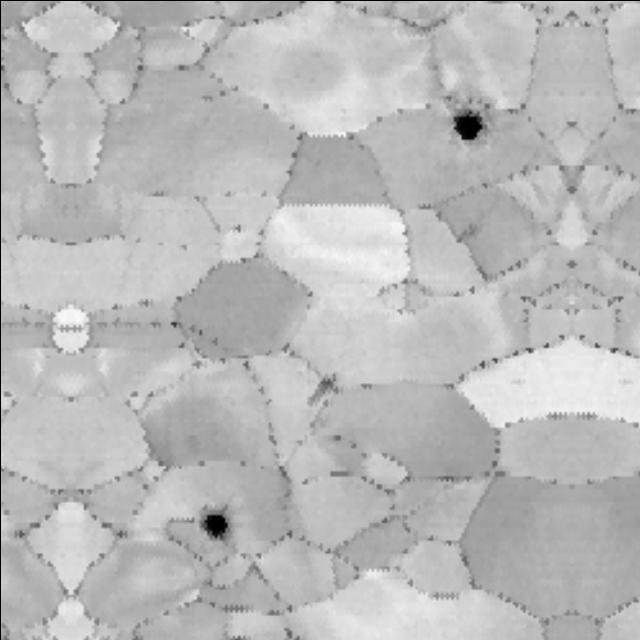good_void: (172, 497, 252, 540), (446, 108, 497, 156), (303, 371, 338, 406)
